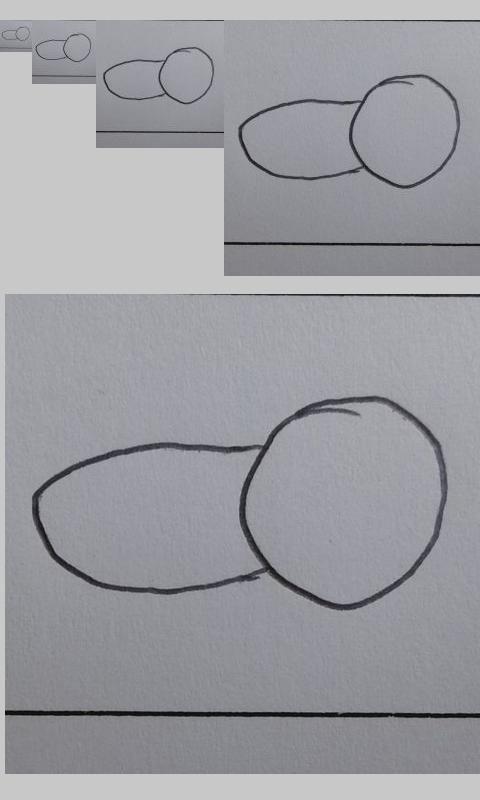switch: (31, 396, 451, 613), (236, 73, 460, 190), (103, 46, 215, 106), (35, 33, 92, 62), (1, 26, 31, 42)
